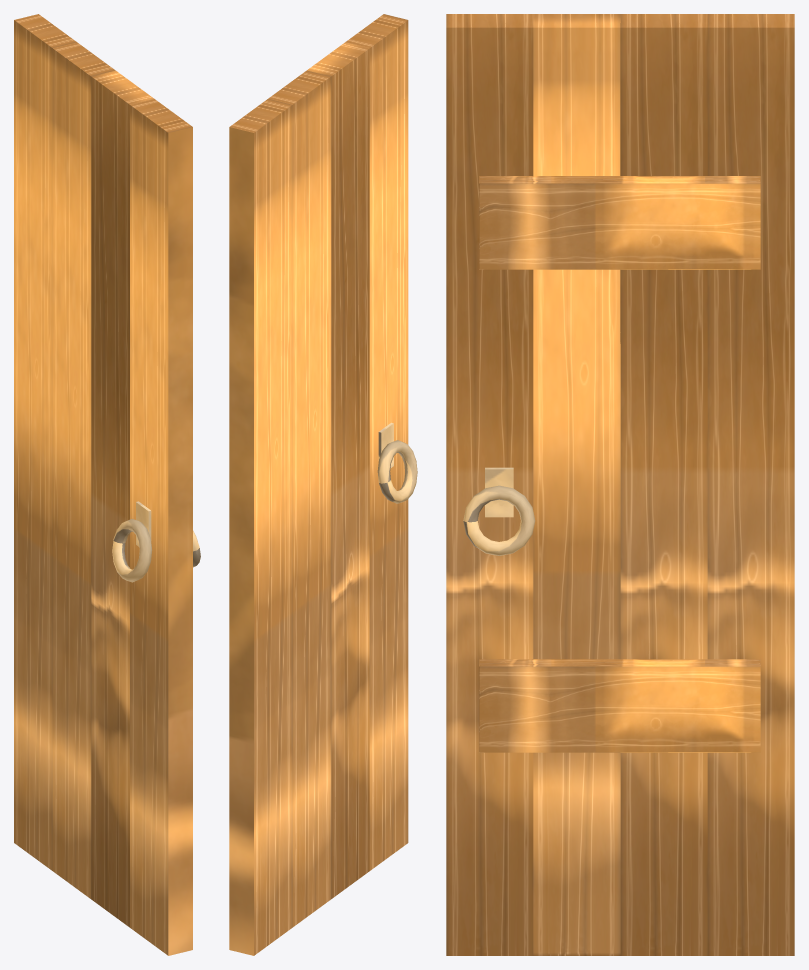
The model's file is SM_Door_02.fbx.
The picture shows the model from 3 angles, left to right: view 1: azimuth 30°, elevation 25°; view 2: azimuth 150°, elevation 25°; view 3: azimuth 270°, elevation 25°; orthographic projection. The views are drawn at different scales.
Parts seen in each view (by area): view 1: SM_Door_02_LOD0; view 2: SM_Door_02_LOD0; view 3: SM_Door_02_LOD0.
Part boxes in pixels (x1,y1,x2,y2): SM_Door_02_LOD0: [14, 14, 200, 955]; SM_Door_02_LOD0: [229, 14, 417, 955]; SM_Door_02_LOD0: [446, 14, 794, 955].
Size of the model in its own units: 17.93 by 68.76 by 202.
